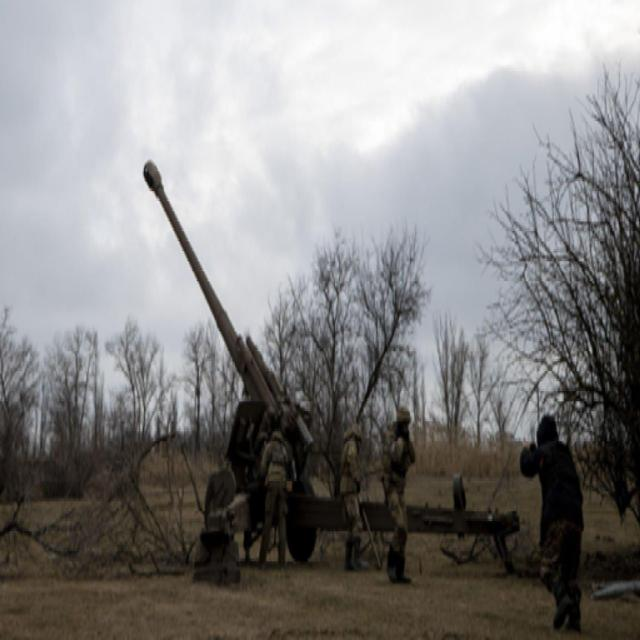ART: (141, 157, 520, 575)
